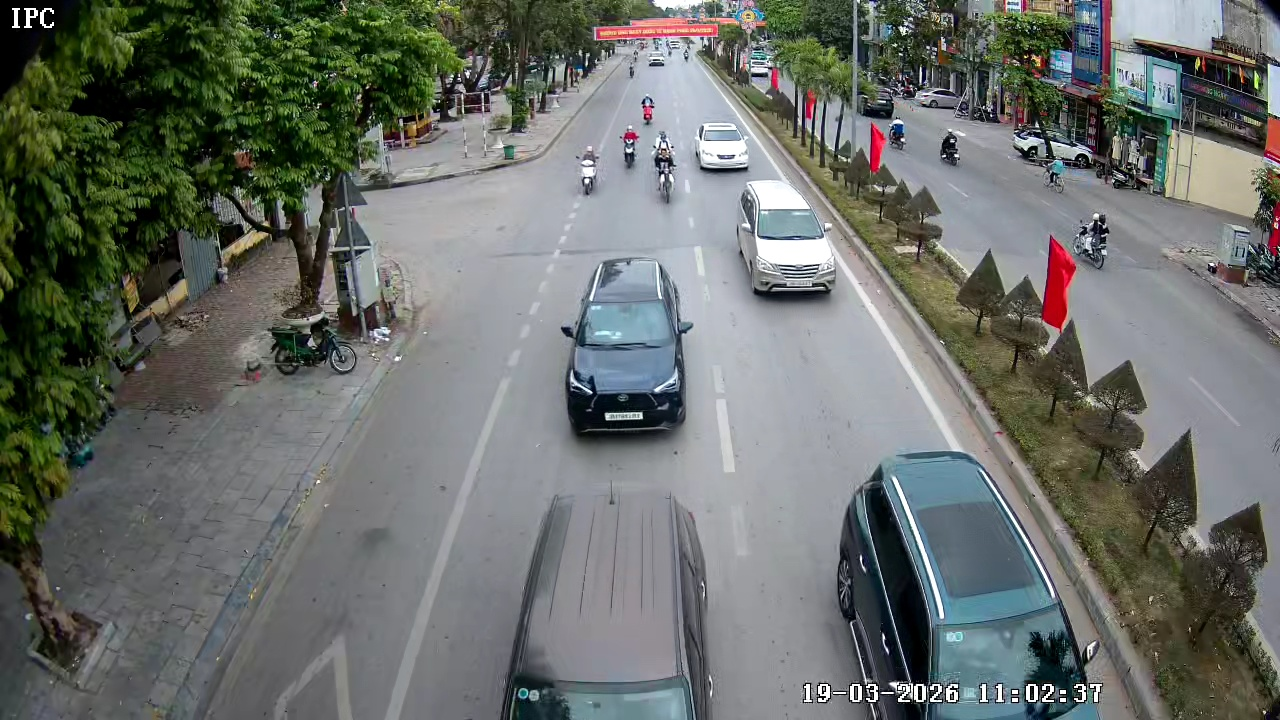car: (835, 452, 1096, 719), (482, 462, 735, 719), (560, 258, 693, 438), (735, 179, 836, 297), (695, 119, 750, 175), (644, 49, 667, 69)
exception: (653, 129, 676, 159)
motorbike: (262, 313, 363, 382), (1074, 212, 1112, 271), (650, 129, 679, 204), (575, 141, 602, 196), (618, 120, 642, 171), (938, 126, 962, 167), (636, 93, 660, 127), (625, 59, 638, 79), (681, 49, 695, 64), (632, 50, 640, 62)
